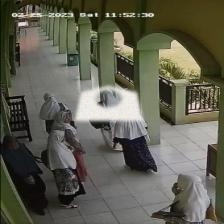Mukena: (74, 86, 143, 120)
